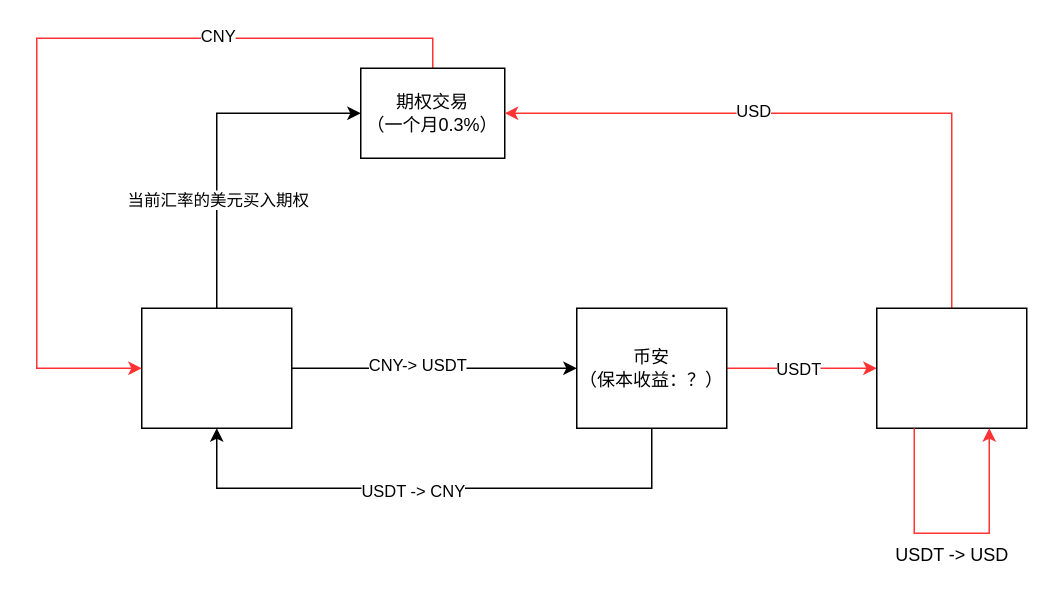
Some shapes in this 1053 by 603 pixel diagram are drawn without their labels. The box of each missing label's shape, as (x1, y1, x2, y2) in pixels:
BiyaPay （手续费1%）: (875, 307, 1027, 428)
银行 （利息3.6%）: (140, 307, 292, 428)
